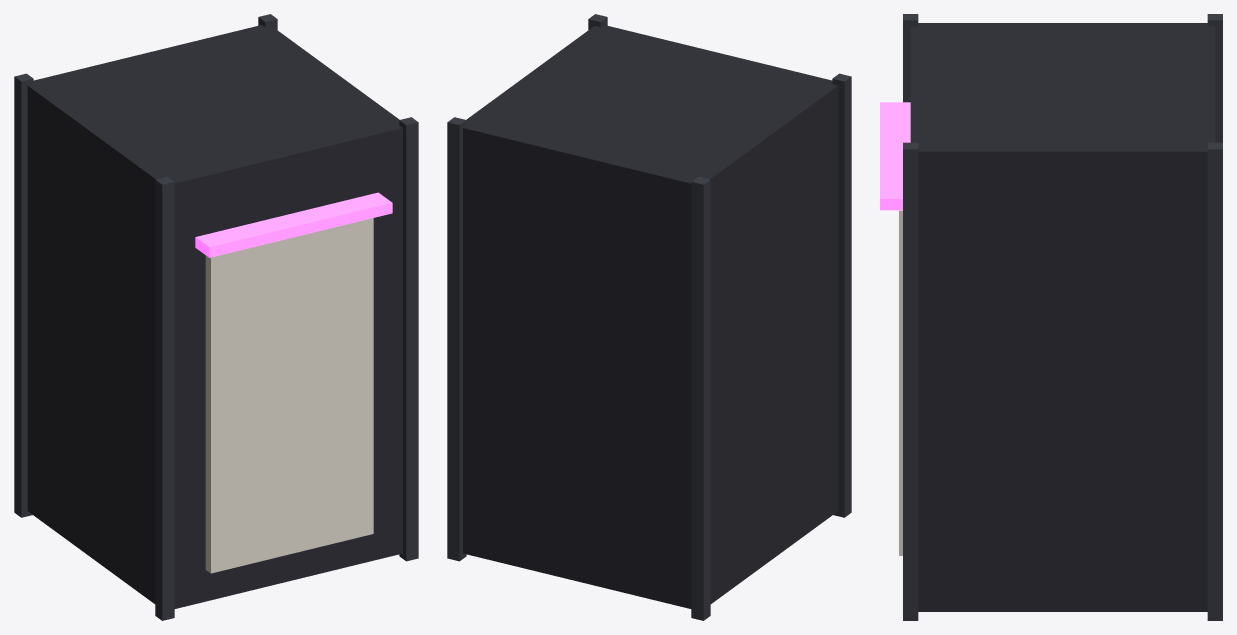
File: hydro_grow_tent.glb
The picture shows the model from 3 angles, left to right: view 1: azimuth 30°, elevation 25°; view 2: azimuth 150°, elevation 25°; view 3: azimuth 270°, elevation 25°; orthographic projection. The views are drawn at different scales.
Visible parts, largest first — view 1: grow_tent; view 2: grow_tent; view 3: grow_tent.
Part boxes in pixels (x1,y1,x2,y2): grow_tent: (14, 14, 418, 620); grow_tent: (447, 14, 851, 620); grow_tent: (880, 14, 1222, 620).
Size of the model in its own units: 1.26 by 2.05 by 1.35.
